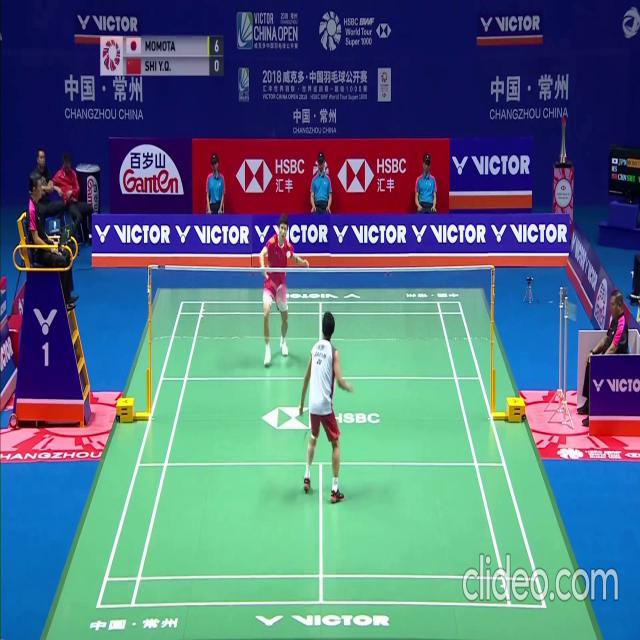Shuttlecock: (286, 250, 290, 257)
